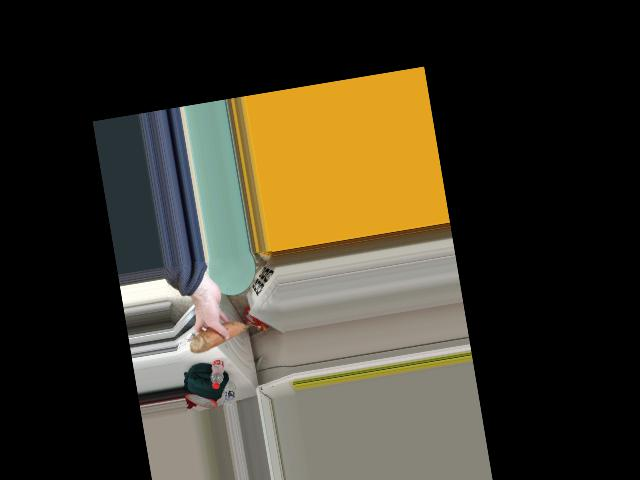sweet_potato: (187, 322, 253, 350)
